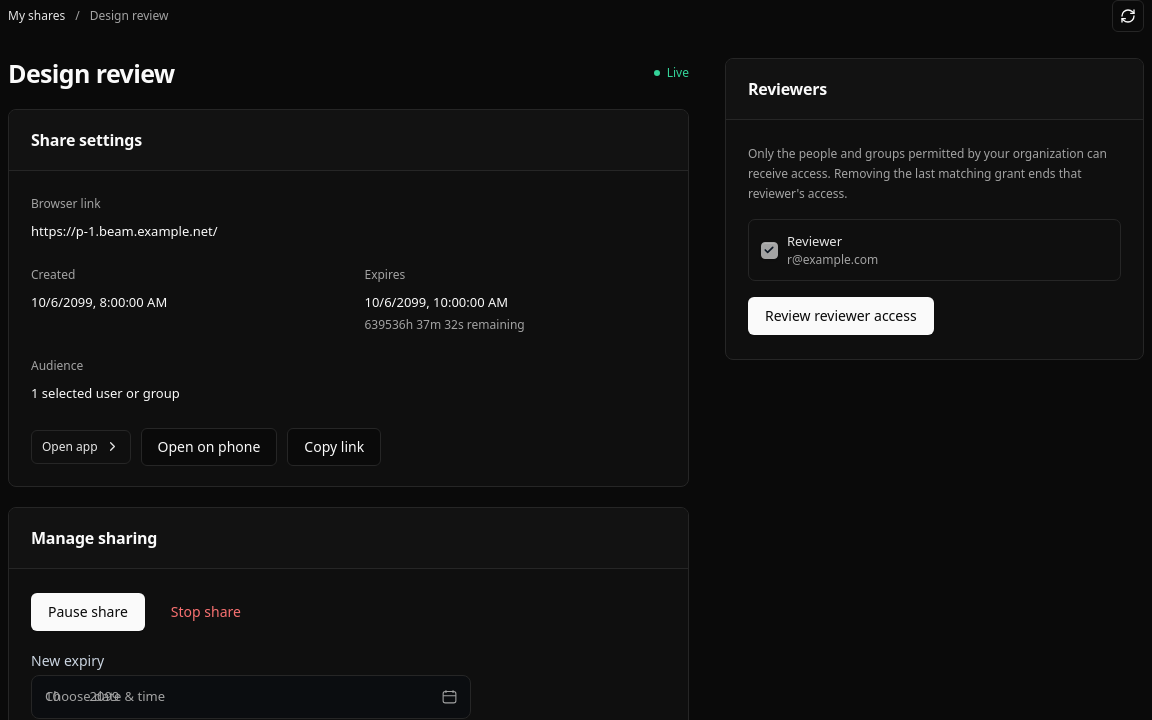
Test case: Beam console authority › requires explicit Stop confirmation and sends the exact saved version
The image size is (1152, 720).
Click the button "Stop share": click(206, 612) [155,594,257,630]
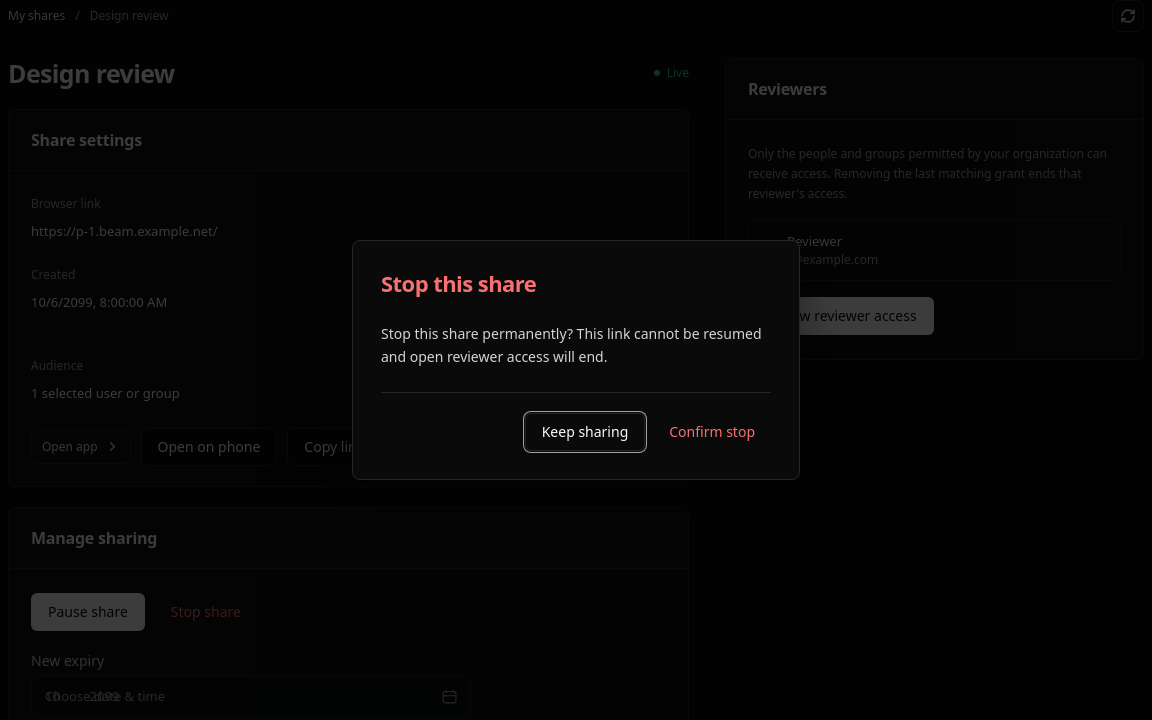
Click the button "Confirm stop": click(712, 432) [653,413,771,451]
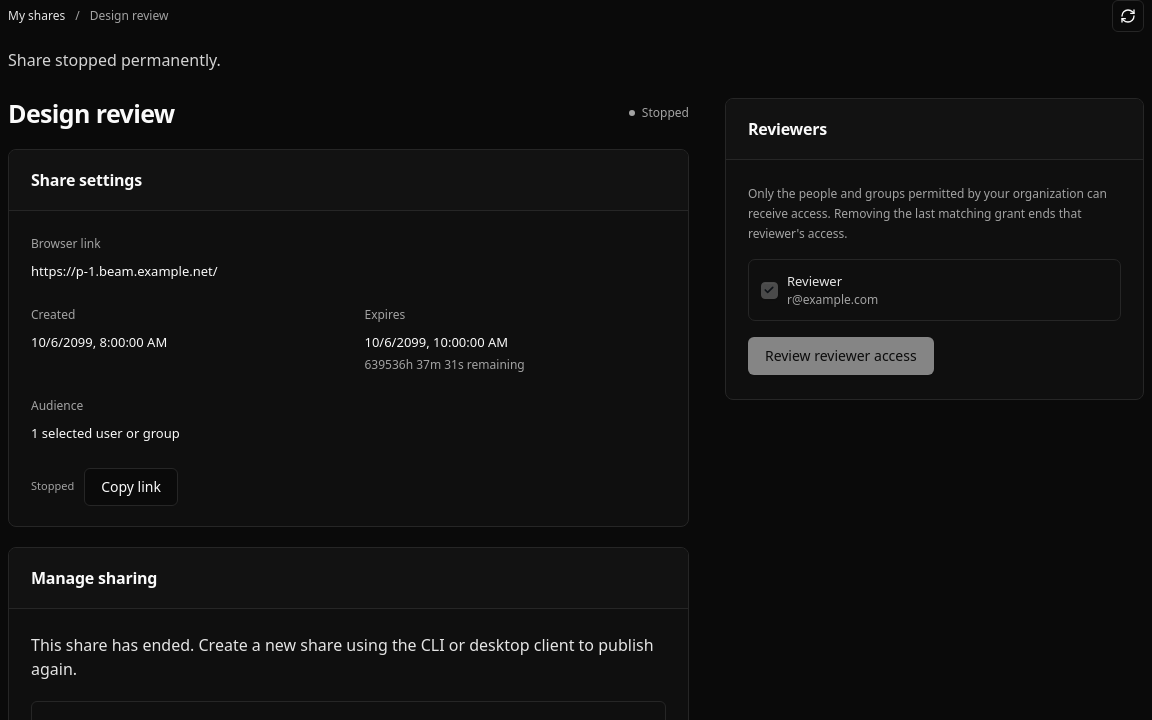
Expected: the text "Share stopped permanently." is shown, [8,49,221,71]
